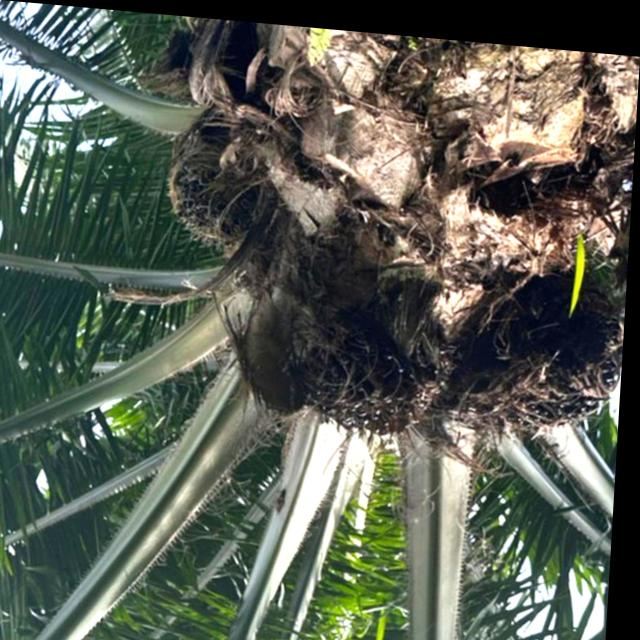ripe: (477, 251, 630, 439), (304, 308, 437, 449)
